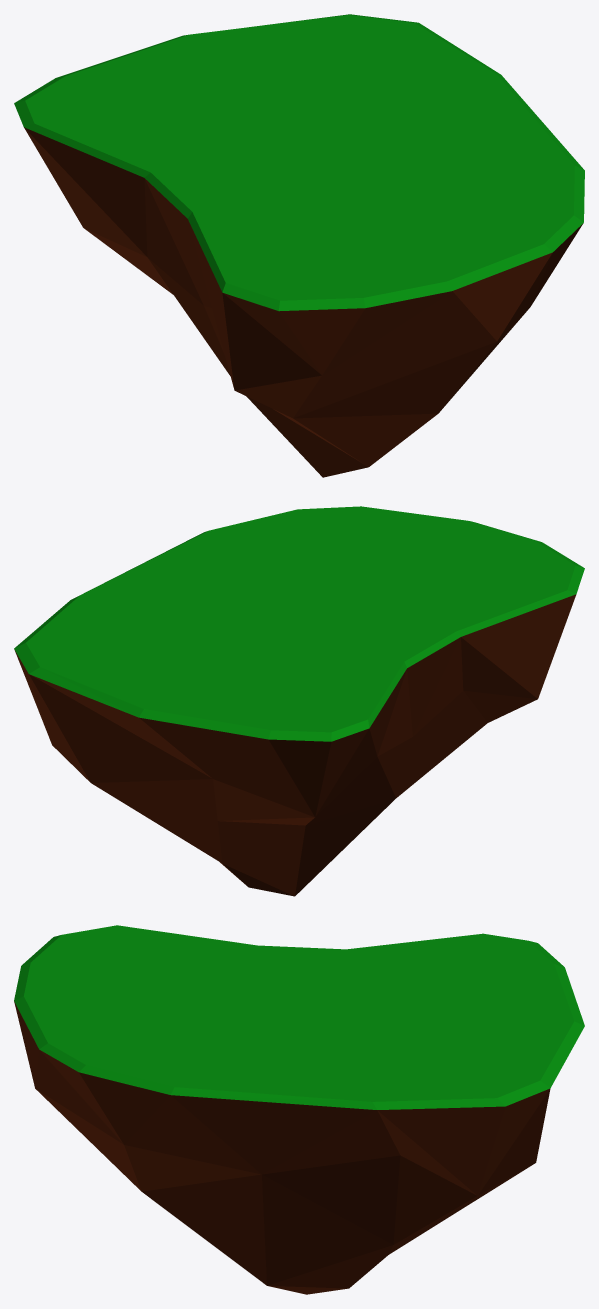
File: FloatingIsland_5.fbx
3 views of the same model, one above another, from view 1: azimuth 30°, elevation 25°; view 2: azimuth 150°, elevation 25°; view 3: azimuth 270°, elevation 25° (orthographic). The views are drawn at different scales.
Parts seen in each view (by area): view 1: FloatingIsland_5; view 2: FloatingIsland_5; view 3: FloatingIsland_5.
Part boxes in pixels (<box>): FloatingIsland_5: <box>14,14,584,477</box>; FloatingIsland_5: <box>14,506,584,896</box>; FloatingIsland_5: <box>14,925,584,1294</box>.
Bounding box in the file's own units: 3275 × 2353 × 4317.
